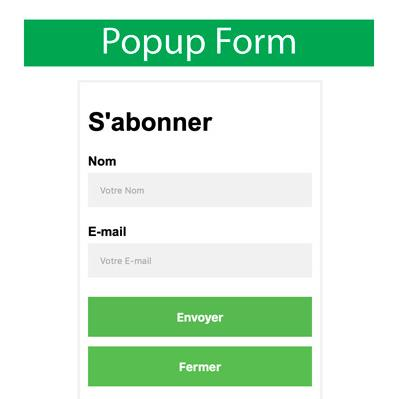button: (86, 294, 313, 338), (85, 345, 314, 388)
field: (86, 171, 312, 207), (87, 242, 312, 278)
field_with_label: (84, 155, 314, 209), (85, 226, 314, 279)
